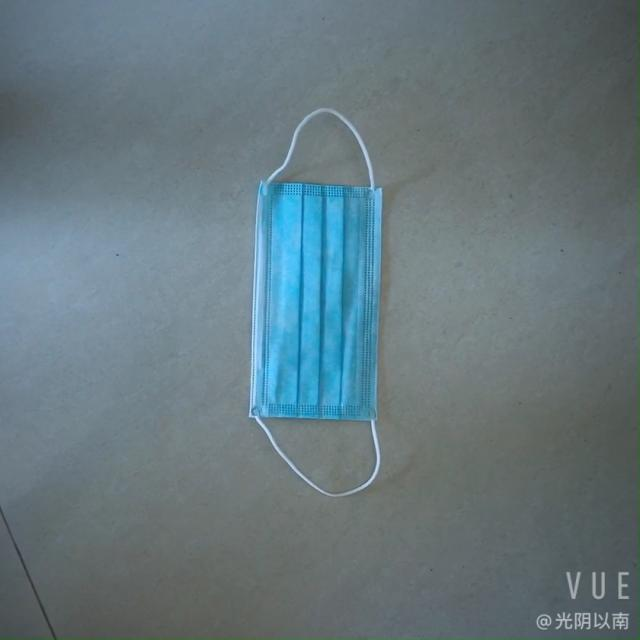non-organic waste: (246, 180, 394, 423)
